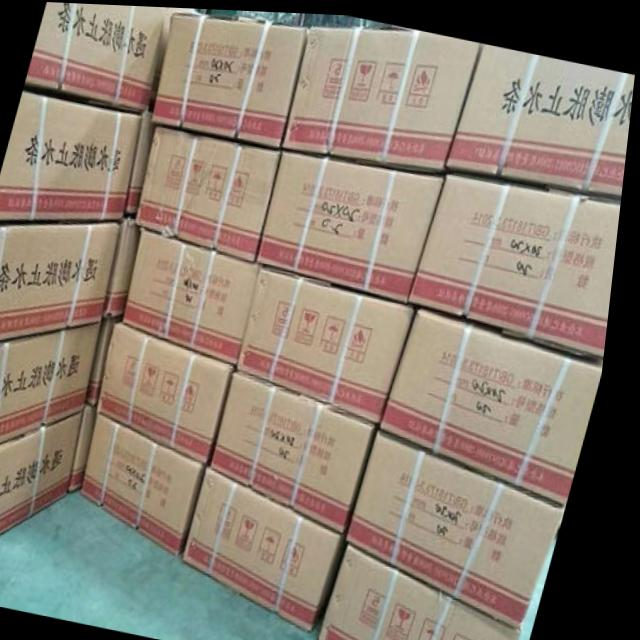box: (388, 305, 610, 505), (358, 430, 573, 626), (415, 171, 624, 356), (448, 39, 636, 198), (261, 150, 447, 302), (244, 269, 423, 423), (283, 26, 478, 167), (222, 369, 383, 531), (198, 467, 354, 630), (154, 12, 306, 147), (332, 541, 535, 640), (142, 128, 282, 262), (0, 92, 144, 222), (107, 323, 239, 463), (132, 230, 263, 362), (92, 415, 214, 553), (28, 2, 167, 112), (0, 221, 127, 339), (0, 322, 107, 449), (0, 410, 95, 542)
